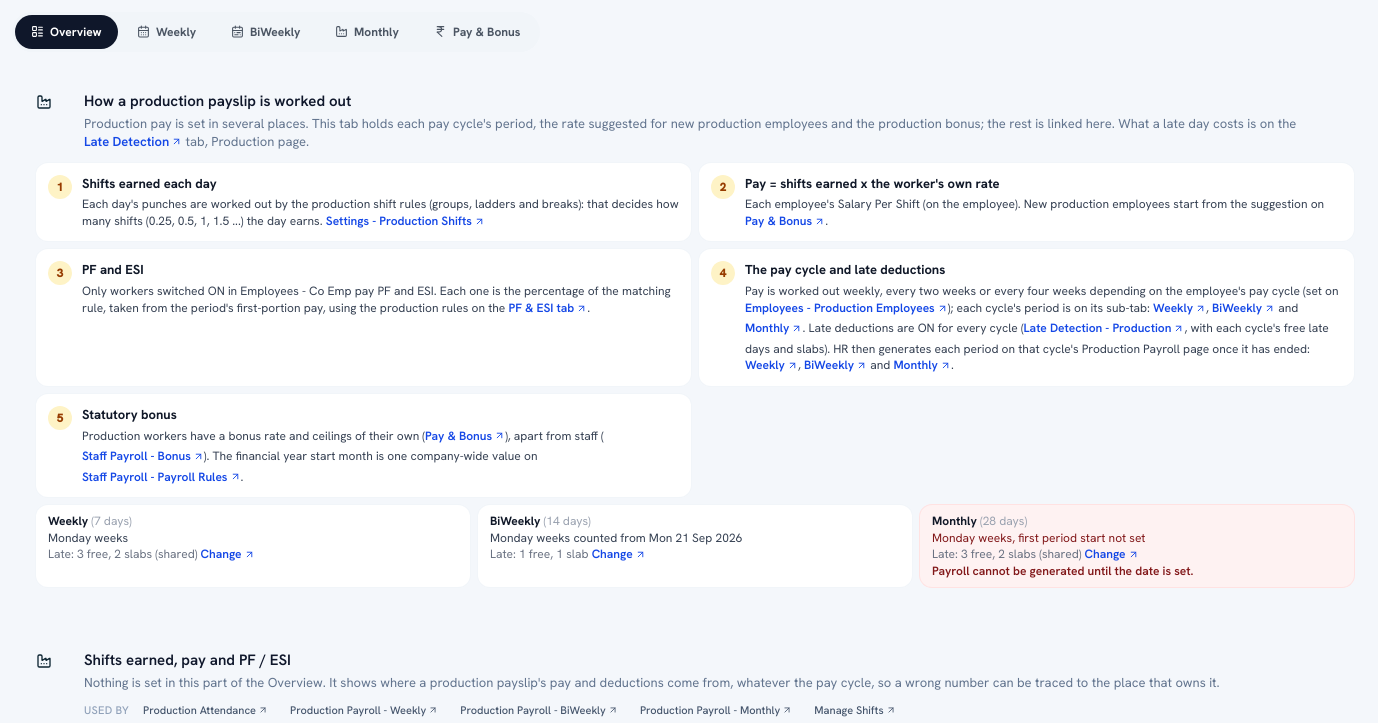
Test case: Settings -> Production Payroll -> Pay & Bonus › keeps the bonus read-only, and says so, while the server does not report it (an older backend)
Click the tab "Pay & Bonus". click: [477, 32]
box: [418,15,537,49]
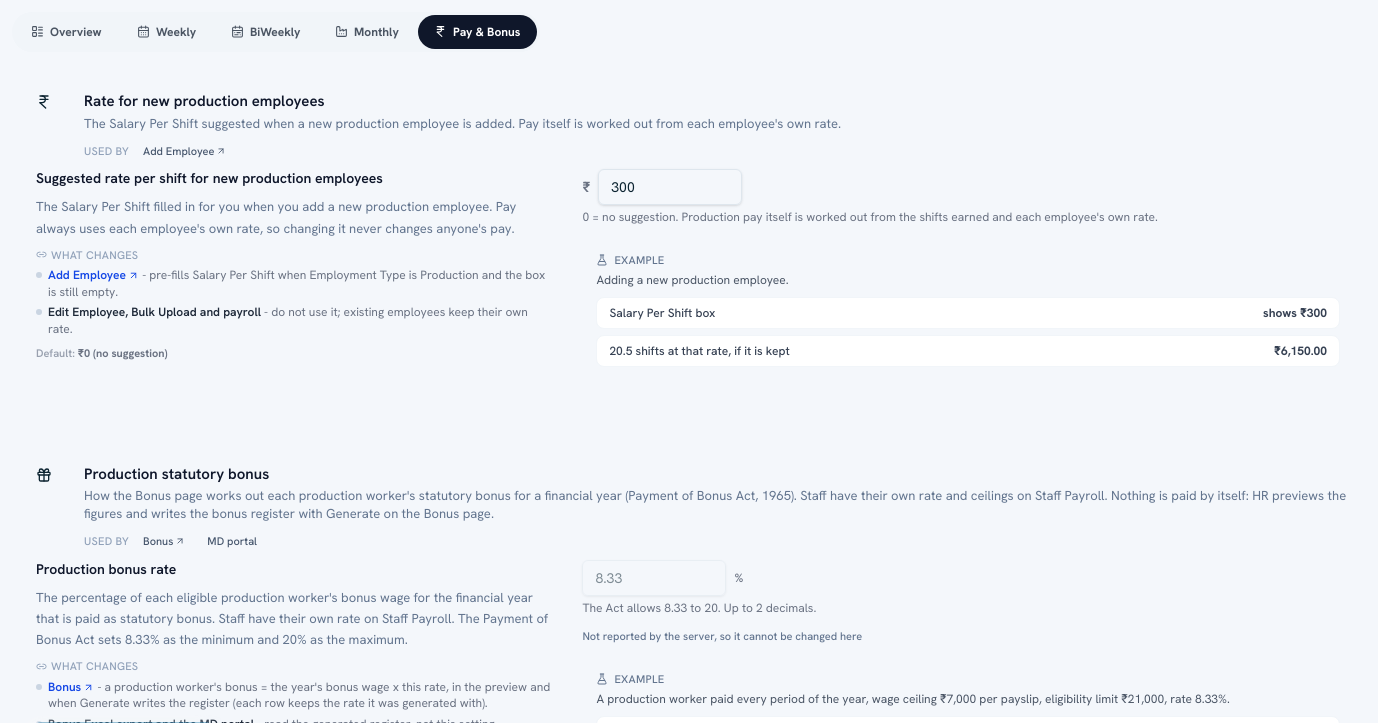
Check: the field labelled "Production bonus rate" is disabled, box [582,560,726,596]
Check: the number of elements with test id "prod-bonus-not-reported" is 3
Check: the field labelled "Production bonus rate" holds "8.33", box [582,560,726,596]
